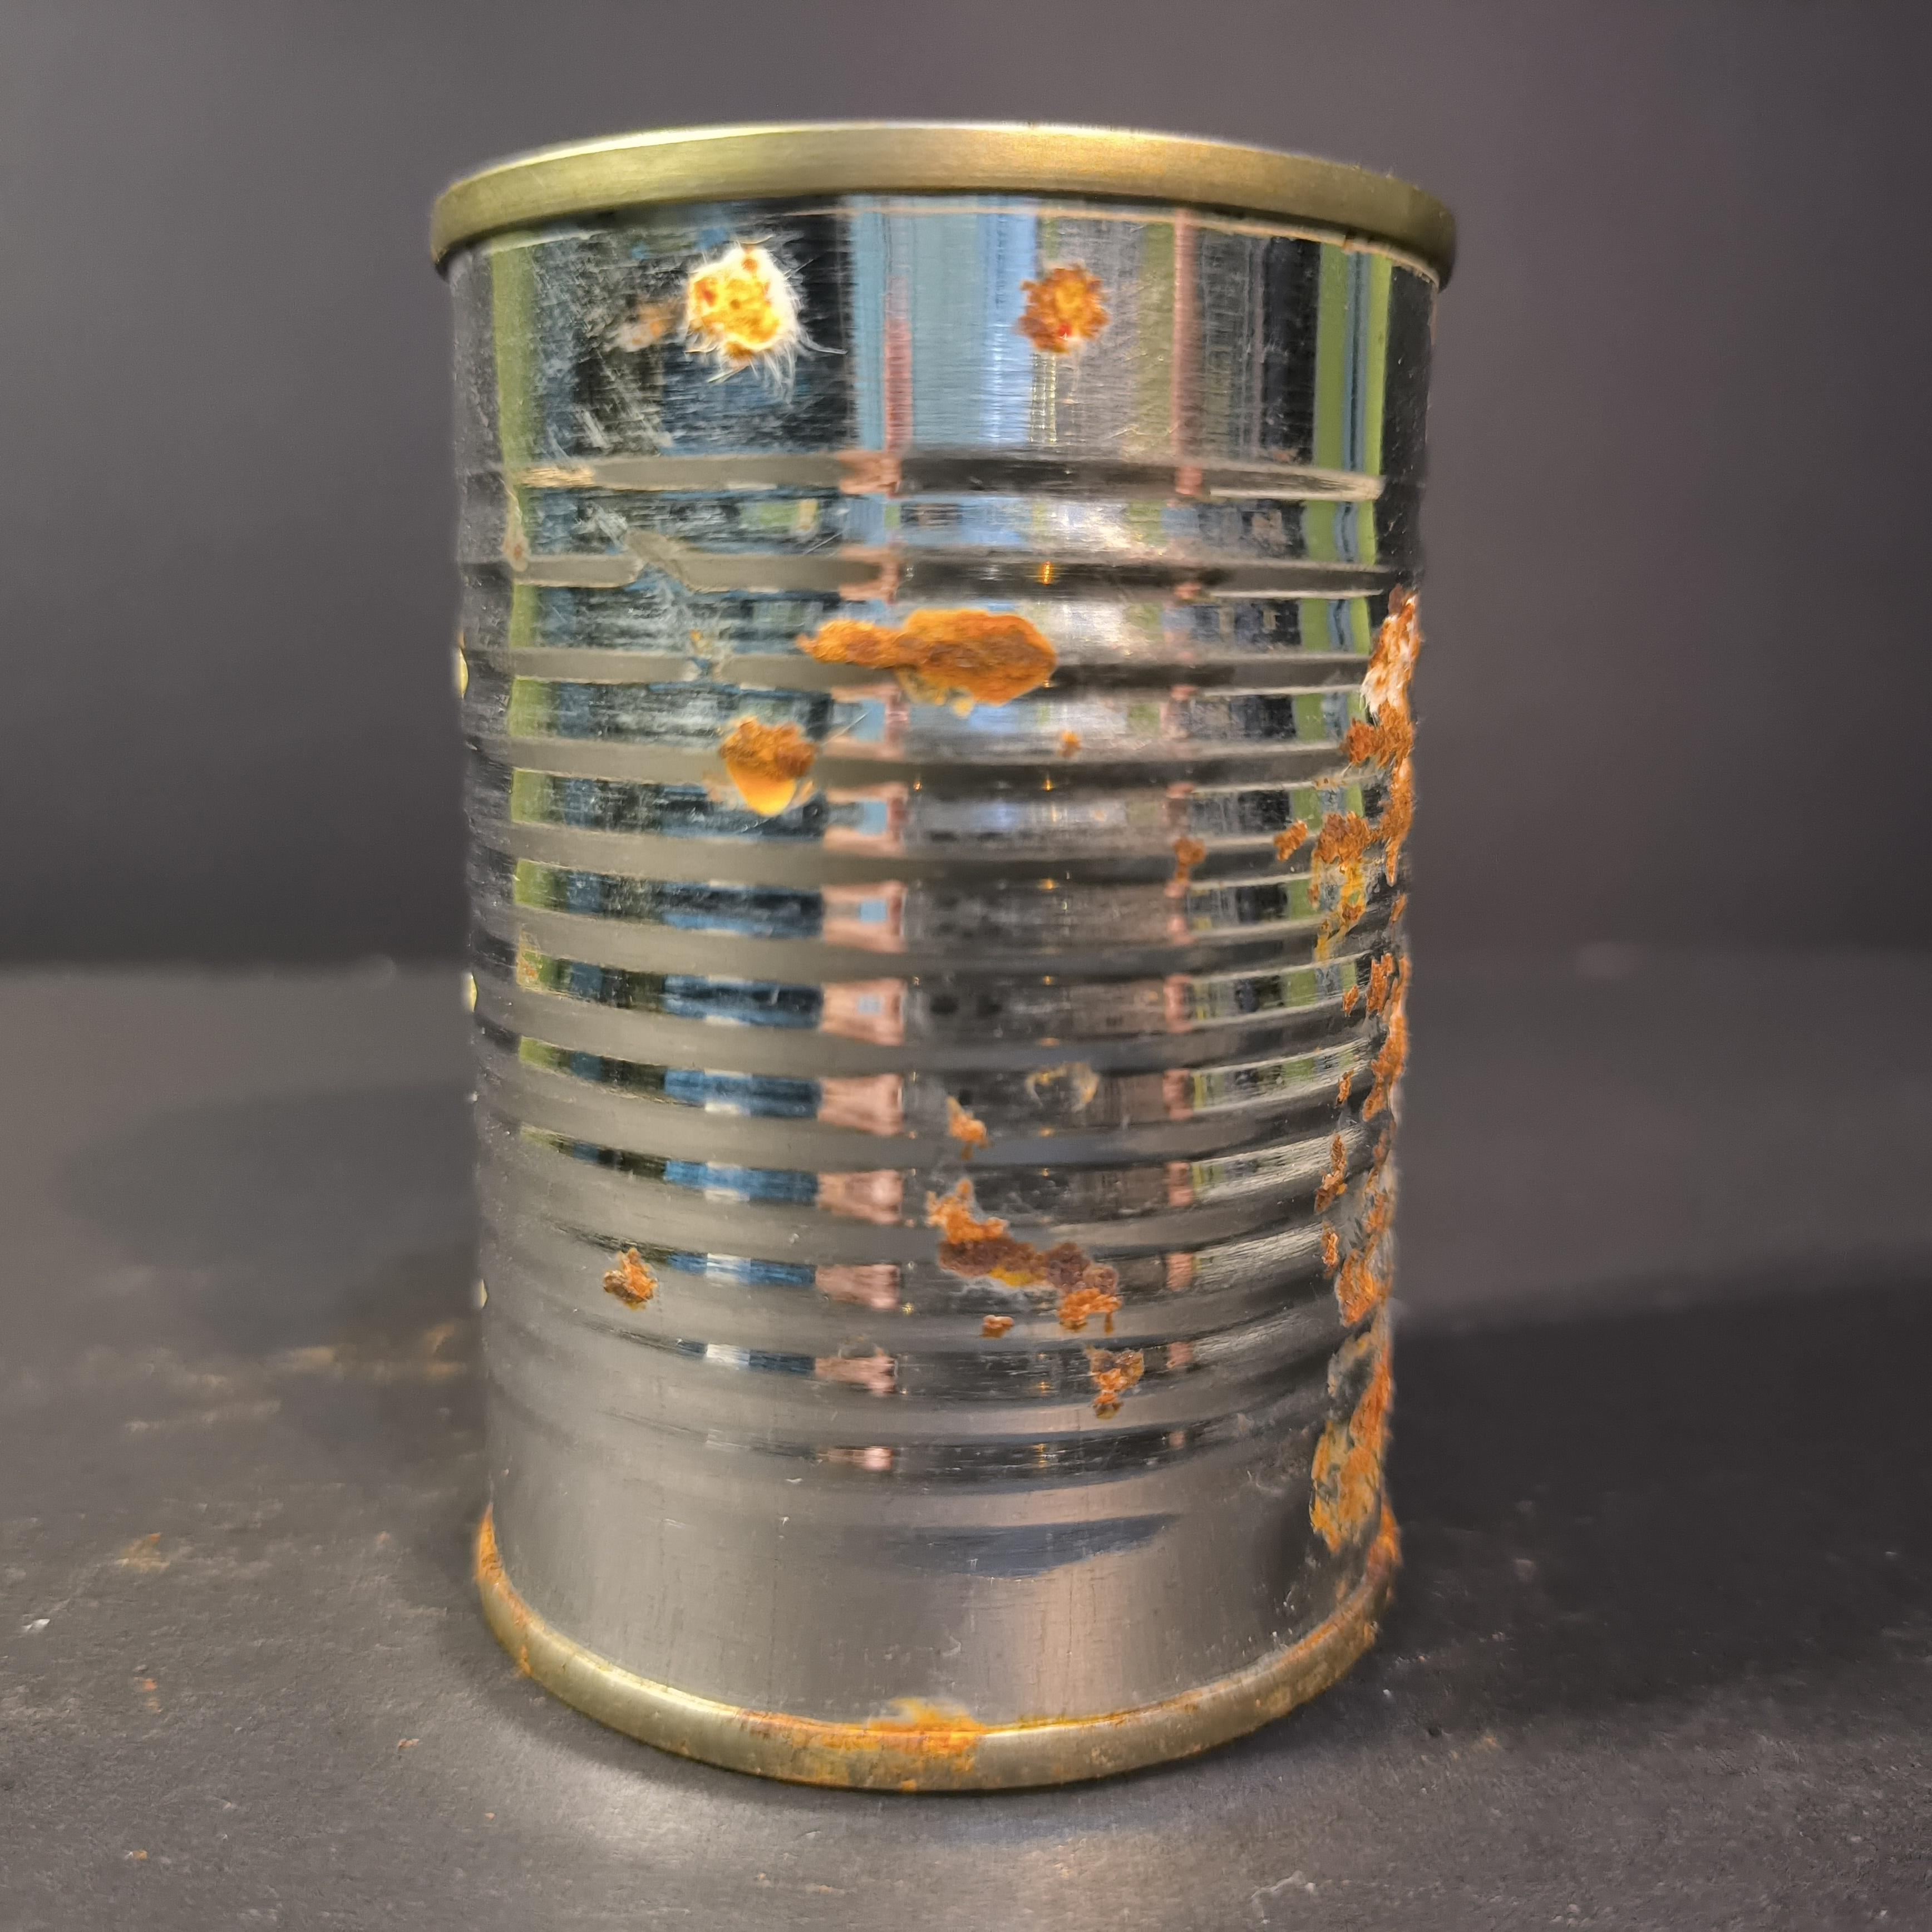Rusted: (409, 108, 1468, 1812)
